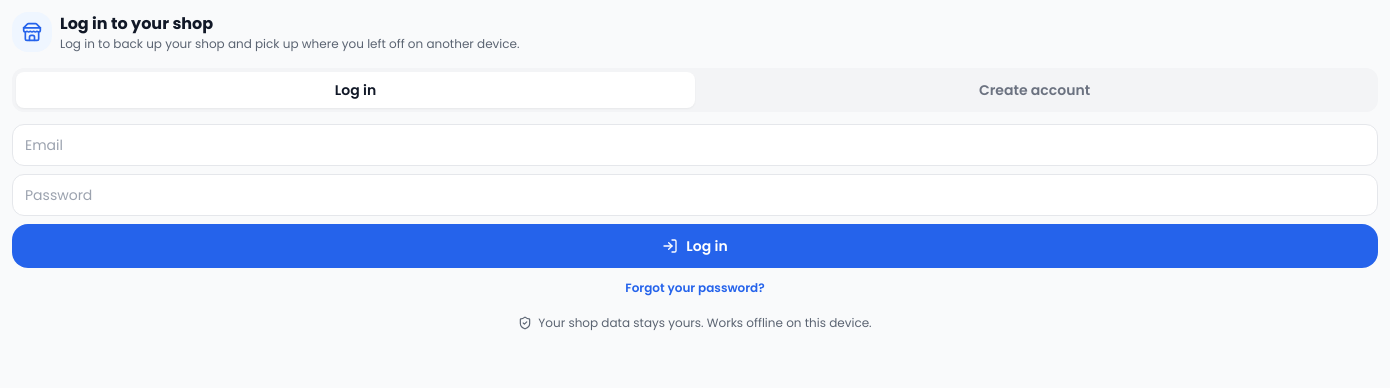
Test: AccountView › shows an error on bad credentials and does not sign in
Type "o@x.com" into the field with placeholder "Email" at (695, 145), box top-left (12, 124), bottom-right (1378, 166)
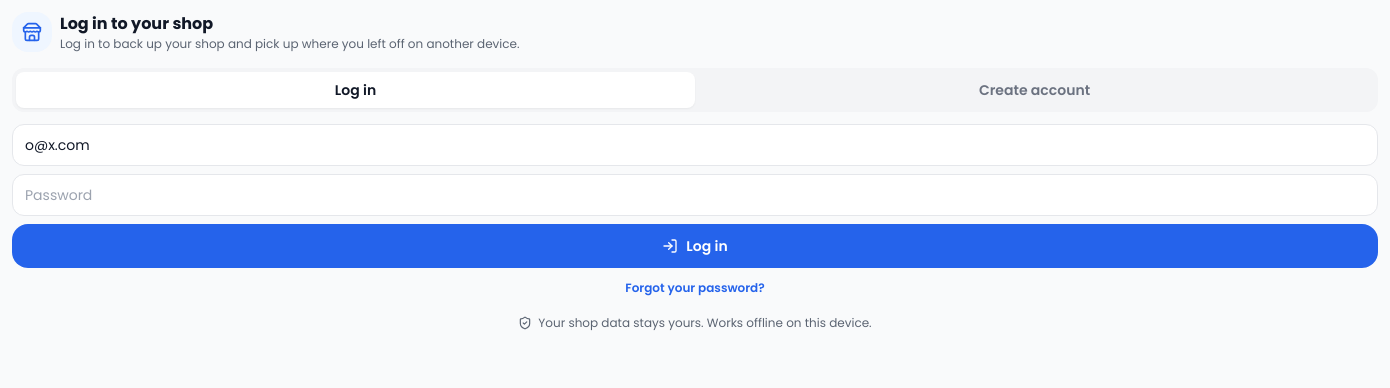
Type "wrong" into the password field with placeholder "Password" at (695, 195), box top-left (12, 174), bottom-right (1378, 216)
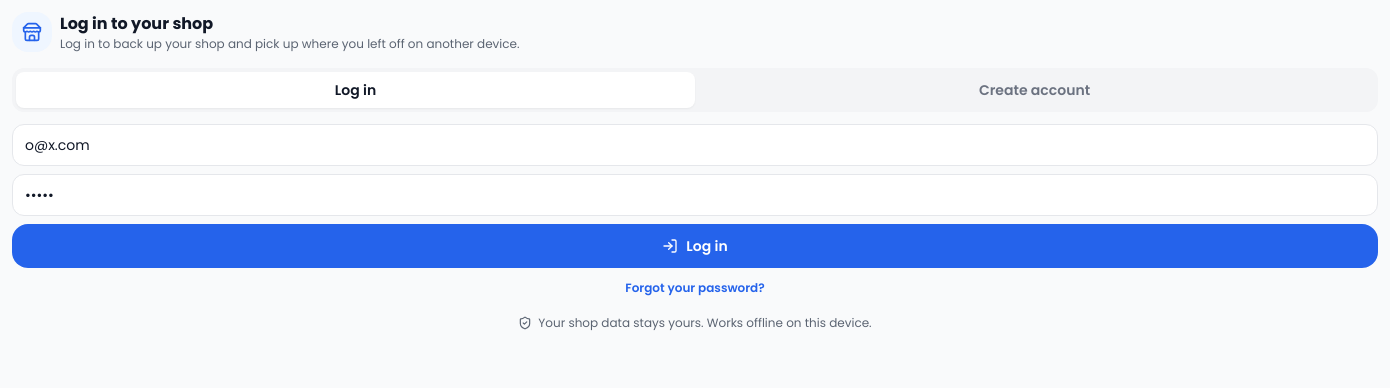
Click the button with test id "submit" at (695, 246), box top-left (12, 224), bottom-right (1378, 268)
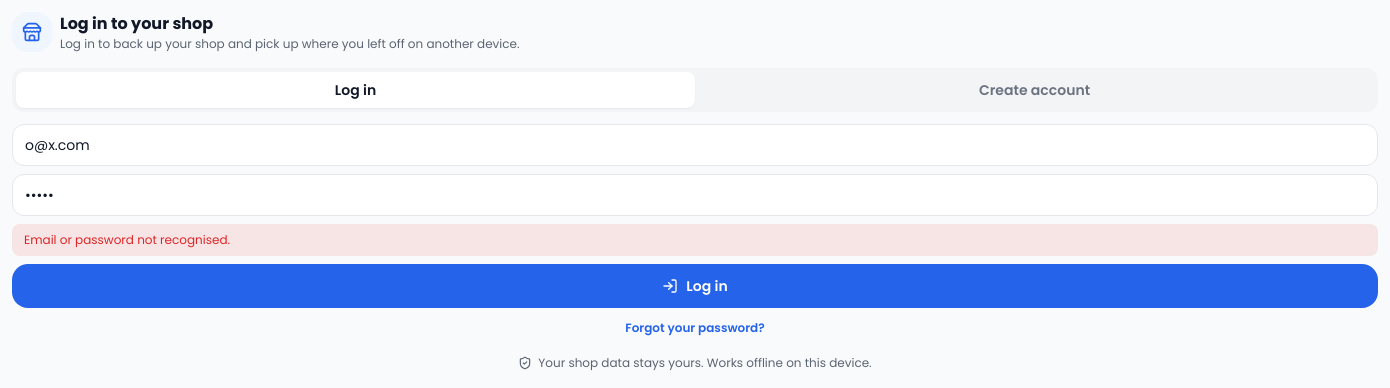
Result: the text "Email or password not recognised." is shown at top-left (12, 224), bottom-right (1378, 256)
